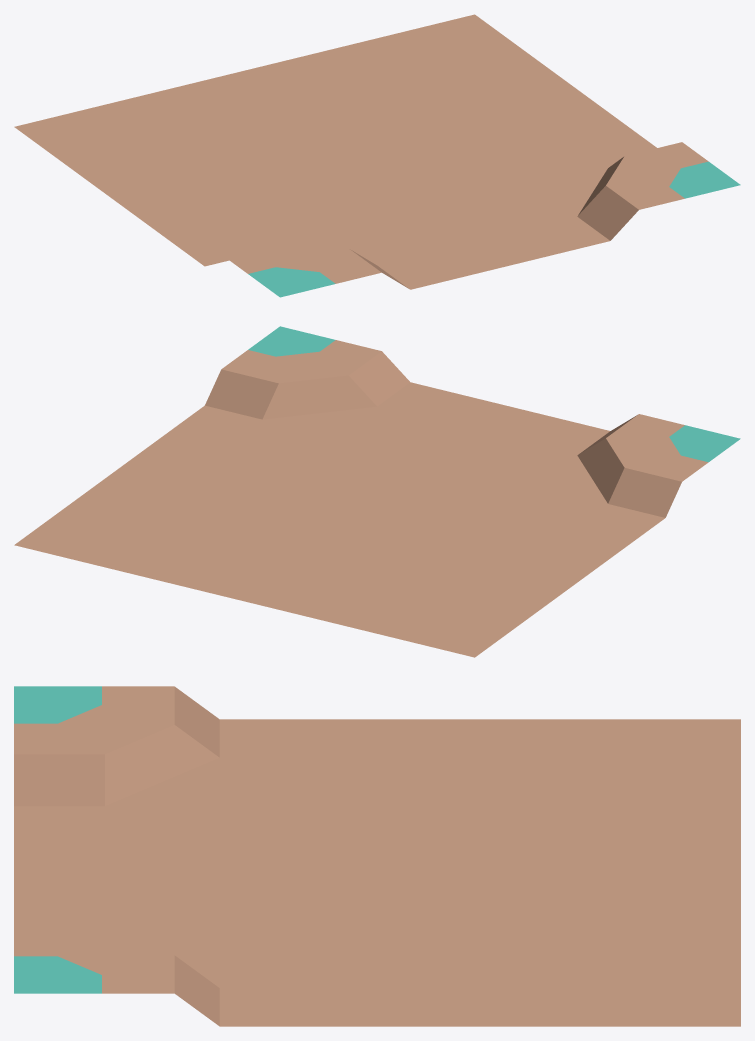
File: ground_pathSideOpen.glb
3 renders of one model, top to bottom at view 1: azimuth 30°, elevation 25°; view 2: azimuth 150°, elevation 25°; view 3: azimuth 270°, elevation 25°, orthographic. The views are drawn at different scales.
Visible parts, largest first — view 1: ground_pathSideOpen; view 2: ground_pathSideOpen; view 3: ground_pathSideOpen.
Boxes of the visible parts, left/top/right/bottom form: ground_pathSideOpen: left=14, top=14, right=740, bottom=297; ground_pathSideOpen: left=14, top=326, right=740, bottom=657; ground_pathSideOpen: left=14, top=686, right=740, bottom=1026.
Bounding box in the file's own units: 1 × 0.05 × 1.
